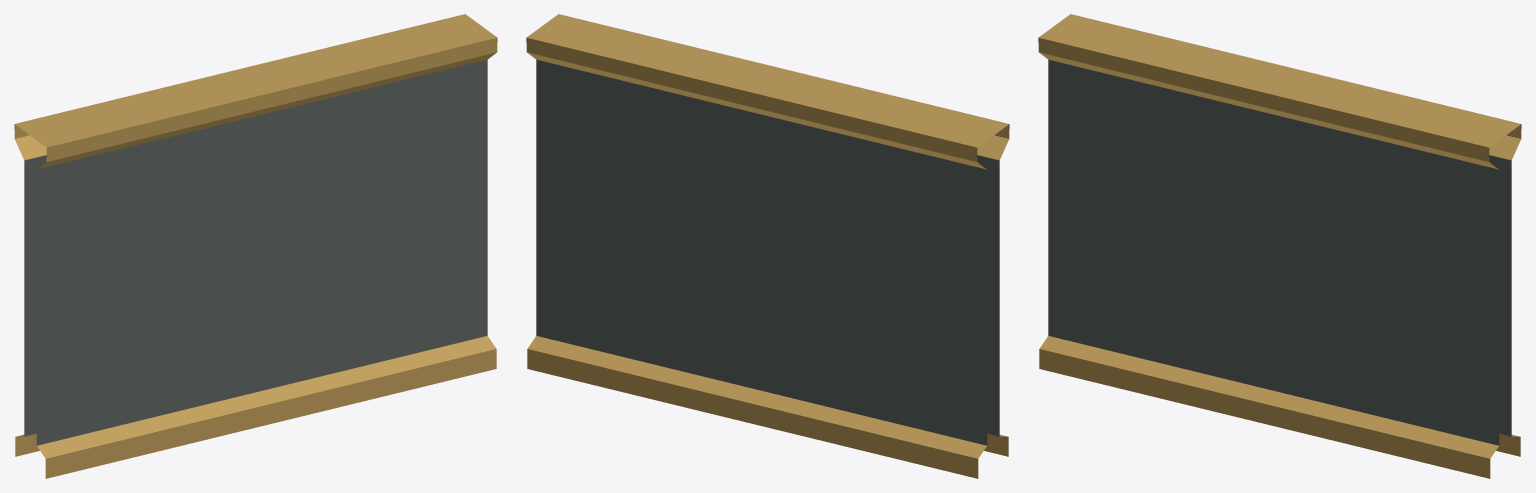
File: Props.fbx_Window.fbx_Wall.fbx
3 renders of one model, left to right at view 1: azimuth 30°, elevation 25°; view 2: azimuth 150°, elevation 25°; view 3: azimuth 330°, elevation 25°, orthographic.
Visible parts, largest first — view 1: Wall; view 2: Wall; view 3: Wall.
Boxes of the visible parts, left/top/right/bottom form: Wall: left=14, top=14, right=497, bottom=478; Wall: left=526, top=14, right=1009, bottom=478; Wall: left=1038, top=14, right=1521, bottom=478.
Size of the model in its own units: 4 by 2.82 by 0.4957.
